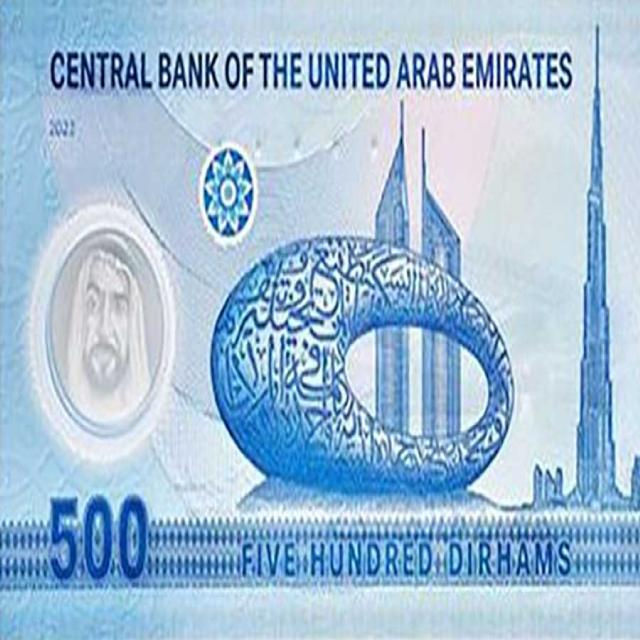500_AED: (1, 0, 640, 635)
